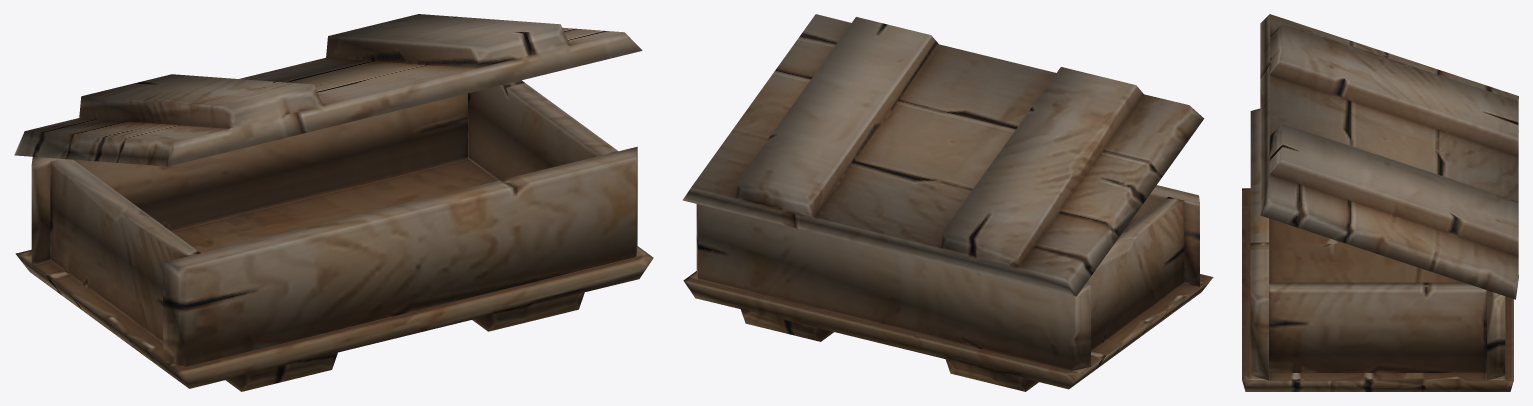
The model's file is Crate-01.fbx.
3 renders of one model, left to right at view 1: azimuth 30°, elevation 25°; view 2: azimuth 150°, elevation 25°; view 3: azimuth 270°, elevation 25°, orthographic. The views are drawn at different scales.
Parts seen in each view (by area): view 1: Crate-01; view 2: Crate-01; view 3: Crate-01.
Part boxes in pixels (box(x1,y1,x2,y2)): Crate-01: box(14, 14, 653, 391); Crate-01: box(682, 14, 1213, 391); Crate-01: box(1242, 14, 1518, 391).
Size of the model in its own units: 0.375 by 0.2054 by 0.2283.
1 material, 1 textured.
